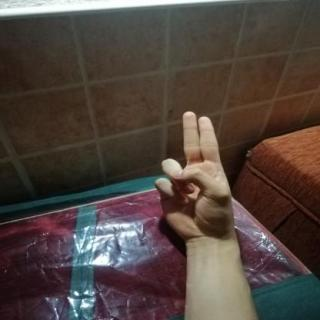TA: (145, 105, 247, 245)
